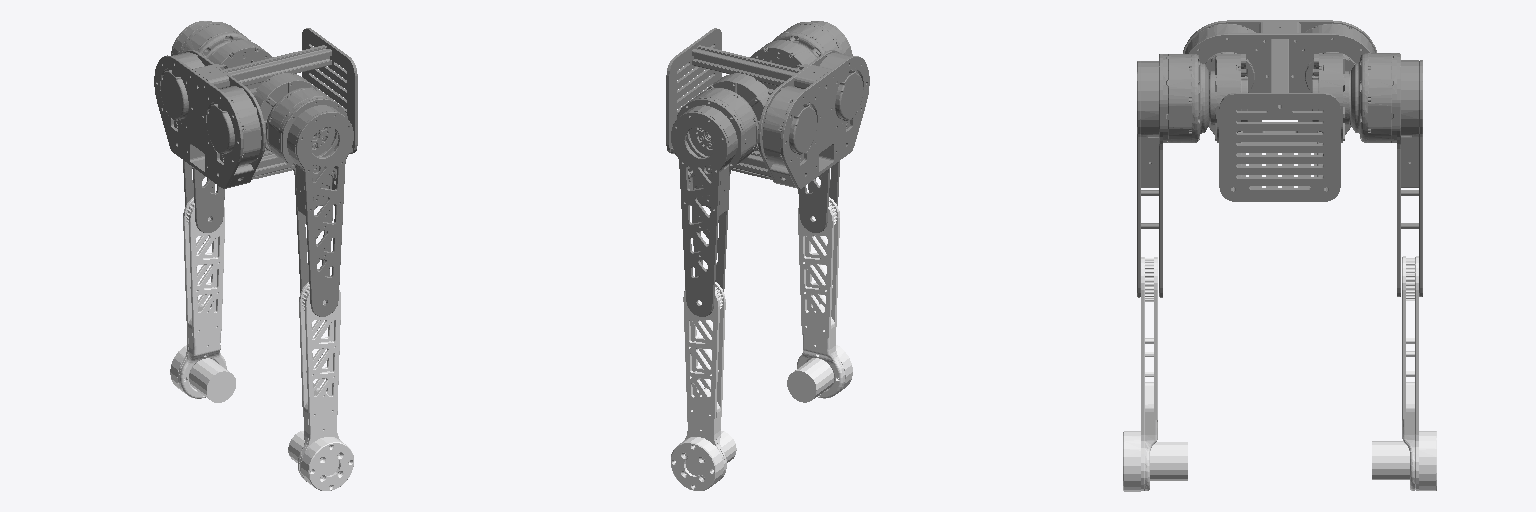
URDF robot description (big bipedal robot v1):
<?xml version="1.0" encoding="utf-8"?>
<!-- This URDF was automatically created by SolidWorks to URDF Exporter! Originally created by [author] ([email redacted]) 
     Commit Version: 1.6.0-4-g7f85cfe  Build Version: 1.6.7995.38578
     For more information, please see http://wiki.ros.org/sw_urdf_exporter -->
<robot
  name="big bipedal robot v1">
  <link name="dummy_link"/>  
  <joint name="dummy_joint" type="floating">
    <parent link="dummy_link"/>
    <child link="base_link"/>
    <origin xyz="0 0 0" rpy="0 0 0"/>
  </joint>
  <link
    name="base_link">
    <inertial>
      <origin
        xyz="0.027551 -0.015841 0.0099587"
        rpy="0 0 0" />
      <mass
        value="4.5" />
      <inertia
        ixx="0.0034237"
        ixy="0.00030912"
        ixz="-1.3025E-06"
        iyy="0.0045382"
        iyz="1.1414E-06"
        izz="0.003454" />
    </inertial>
    <visual>
      <origin
        xyz="0 0 0"
        rpy="0 0 0" />
      <geometry>
        <mesh
          filename="package://big bipedal robot v1/meshes/base_link.STL" />
      </geometry>
      <material
        name="">
        <color
          rgba="0.62745 0.62745 0.62745 1" />
      </material>
    </visual>
    <collision>
      <origin
        xyz="0 0 0"
        rpy="0 0 0" />
      <geometry>
        <mesh
          filename="package://big bipedal robot v1/meshes/base_link.STL" />
      </geometry>
    </collision>
  </link>
  <link
    name="hipR_link">
    <inertial>
      <origin
        xyz="0.050012 -8.4172E-05 -0.00066363"
        rpy="0 0 0" />
      <mass
        value="0.575" />
      <inertia
        ixx="0.00013072"
        ixy="3.5562E-07"
        ixz="-3.3092E-06"
        iyy="0.00015128"
        iyz="-2.3793E-07"
        izz="0.00024737" />
    </inertial>
    <visual>
      <origindummy_link
        xyz="0 0 0"
        rpy="0 0 0" />
      <geometry>
        <mesh
          filename="package://big bipedal robot v1/meshes/hipR_link.STL" />
      </geometry>
      <material
        name="">
        <color
          rgba="0.62745 0.62745 0.62745 1" />
      </material>
    </visual>
    <collision>
      <origin
        xyz="0 0 0"
        rpy="0 0 0" />
      <geometry>
        <mesh
          filename="package://big bipedal robot v1/meshes/hipR_link.STL" />
      </geometry>
    </collision>
  </link>
  <joint
    name="hip1"
    type="revolute">
    <origin
      xyz="0.02095 0.04625 0"
      rpy="1.5708 0 0" />
    <parent
      link="base_link" />
    <child
      link="hipR_link" />
    <axis
      xyz="1 0 0" />
    <limit
      lower="-0.34907"
      upper="0.34907"
      effort="0"
      velocity="0" />
  </joint>
  <link
    name="thighR_link">
    <inertial>
      <origin
        xyz="-6.2397E-05 -0.02137 -0.039555"
        rpy="0 0 0" />
      <mass
        value="1.01" />
      <inertia
        ixx="0.001452"
        ixy="1.5171E-08"
        ixz="3.2362E-07"
        iyy="0.00038047"
        iyz="-0.0002033"
        izz="0.0014985" />
    </inertial>
    <visual>
      <origin
        xyz="0 0 0"
        rpy="0 0 0" />
      <geometry>
        <mesh
          filename="package://big bipedal robot v1/meshes/thighR_link.STL" />
      </geometry>
      <material
        name="">
        <color
          rgba="0.62745 0.62745 0.62745 1" />
      </material>
    </visual>
    <collision>
      <origin
        xyz="0 0 0"
        rpy="0 0 0" />
      <geometry>
        <mesh
          filename="package://big bipedal robot v1/meshes/thighR_link.STL" />
      </geometry>
    </collision>
  </link>
  <joint
    name="thigh2"
    type="revolute">
    <origin
      xyz="0.05325 0 -0.019903"
      rpy="0 0 0" />
    <parent
      link="hipR_link" />
    <child
      link="thighR_link" />
    <axis
      xyz="0 0 1" />
    <limit
      lower="-1.7453"
      upper="0"
      effort="0"
      velocity="0" />
  </joint>
  <link
    name="calfR_link">
    <inertial>
      <origin
        xyz="3.3109E-05 -0.1669 -0.041645"
        rpy="0 0 0" />
      <mass
        value="0.605" />
      <inertia
        ixx="0.0013877"
        ixy="-9.3452E-07"
        ixz="6.3494E-09"
        iyy="0.00010149"
        iyz="5.0924E-06"
        izz="0.0013734" />
    </inertial>
    <visual>
      <origin
        xyz="0 0 0"
        rpy="0 0 0" />
      <geometry>
        <mesh
          filename="package://big bipedal robot v1/meshes/calfR_link.STL" />
      </geometry>
      <material
        name="">
        <color
          rgba="0.96078 0.96078 0.96471 1" />
      </material>
    </visual>
    <collision>
      <origin
        xyz="0 0 0"
        rpy="0 0 0" />
      <geometry>
        <mesh
          filename="package://big bipedal robot v1/meshes/calfR_link.STL" />
      </geometry>
    </collision>
  </link>
  <joint
    name="calf3"
    type="revolute">
    <origin
      xyz="0 -0.215 -0.022247"
      rpy="0 0 0" />
    <parent
      link="thighR_link" />
    <child
      link="calfR_link" />
    <axis
      xyz="0 0 1" />
    <limit
      lower="-2.618"
      upper="0"
      effort="0"
      velocity="0" />
  </joint>
  <link
    name="wheelR_link">
    <inertial>
      <origin
        xyz="6.1926E-11 1.06E-05 -0.024241"
        rpy="0 0 0" />
      <!-- <mass
        value="0.695" /> -->
      <mass
        value="0.0" />
      <inertia
        ixx="0.00097474"
        ixy="1.4305E-09"
        ixz="-1.6779E-09"
        iyy="0.00097477"
        iyz="-1.4591E-08"
        izz="0.001795" />
    </inertial>
    <visual>
      <origin
        xyz="0 0 0"
        rpy="0 0 0" />
      <geometry>
        <mesh
          filename="package://big bipedal robot v1/meshes/wheelR_link.STL" />
      </geometry>
      <material
        name="">
        <color
          rgba="0.15294 0.15294 0.15294 1" />
      </material>
    </visual>
    <collision>
      <origin
        xyz="0 0 0"
        rpy="0 0 0" />
      <geometry>
        <mesh
          filename="package://big bipedal robot v1/meshes/wheelR_link.STL" />
      </geometry>
    </collision>
  </link>
  <joint
    name="wheel4"
    type="continuous">
    <origin
      xyz="0 -0.215 -0.0596"
      rpy="0 0 0.059474" />
    <parent
      link="calfR_link" />
    <child
      link="wheelR_link" />
    <axis
      xyz="0 0 1" />
  </joint>
  <link
    name="hipL_link">
    <inertial>
      <origin
        xyz="0.050012 -8.4178E-05 0.00066363"
        rpy="0 0 0" />
      <mass
        value="0.575" />
      <inertia
        ixx="0.00013072"
        ixy="3.5562E-07"
        ixz="-3.3092E-06"
        iyy="0.00015128"
        iyz="-2.3793E-07"
        izz="0.00024737" />
    </inertial>
    <visual>
      <origin
        xyz="0 0 0"
        rpy="0 0 0" />
      <geometry>
        <mesh
          filename="package://big bipedal robot v1/meshes/hipL_link.STL" />
      </geometry>
      <material
        name="">
        <color
          rgba="0.62745 0.62745 0.62745 1" />
      </material>
    </visual>
    <collision>
      <origin
        xyz="0 0 0"
        rpy="0 0 0" />
      <geometry>
        <mesh
          filename="package://big bipedal robot v1/meshes/hipL_link.STL" />
      </geometry>
    </collision>
  </link>
  <joint
    name="hip01"
    type="revolute">
    <origin
      xyz="0.02195 -0.06625 0"
      rpy="1.5708 0 0" />
    <parent
      link="base_link" />
    <child
      link="hipL_link" />
    <axis
      xyz="1 0 0" />
    <limit
      lower="-0.34907"
      upper="0.34907"
      effort="0"
      velocity="0" />
  </joint>
  <link
    name="thighL_link">
    <inertial>
      <origin
        xyz="-6.2369E-05 -0.02137 0.039555"
        rpy="0 0 0" />
      <mass
        value="1.01" />
      <inertia
        ixx="0.001452"
        ixy="1.5255E-08"
        ixz="-3.236E-07"
        iyy="0.00038047"
        iyz="0.00020329"
        izz="0.0014985" />
    </inertial>
    <visual>
      <origin
        xyz="0 0 0"
        rpy="0 0 0" />
      <geometry>
        <mesh
          filename="package://big bipedal robot v1/meshes/thighL_link.STL" />
      </geometry>
      <material
        name="">
        <color
          rgba="0.62745 0.62745 0.62745 1" />
      </material>
    </visual>
    <collision>
      <origin
        xyz="0 0 0"
        rpy="0 0 0" />
      <geometry>
        <mesh
          filename="package://big bipedal robot v1/meshes/thighL_link.STL" />
      </geometry>
    </collision>
  </link>
  <joint
    name="thigh02"
    type="revolute">
    <origin
      xyz="0.05325 0 0.019903"
      rpy="0 0 0" />
    <parent
      link="hipL_link" />
    <child
      link="thighL_link" />
    <axis
      xyz="0 0 1" />
    <limit
      lower="-1.7453"
      upper="0"
      effort="0"
      velocity="0" />
  </joint>
  <link
    name="calfL_link">
    <inertial>
      <origin
        xyz="3.3129E-05 -0.1669 0.041645"
        rpy="0 0 0" />
      <mass
        value="0.605" />
      <inertia
        ixx="0.0013877"
        ixy="-9.3381E-07"
        ixz="-6.3843E-09"
        iyy="0.00010149"
        iyz="-5.0922E-06"
        izz="0.0013734" />
    </inertial>
    <visual>
      <origin
        xyz="0 0 0"
        rpy="0 0 0" />
      <geometry>
        <mesh
          filename="package://big bipedal robot v1/meshes/calfL_link.STL" />
      </geometry>
      <material
        name="">
        <color
          rgba="0.96078 0.96078 0.96471 1" />
      </material>
    </visual>
    <collision>
      <origin
        xyz="0 0 0"
        rpy="0 0 0" />
      <geometry>
        <mesh
          filename="package://big bipedal robot v1/meshes/calfL_link.STL" />
      </geometry>
    </collision>
  </link>
  <joint
    name="calf03"
    type="revolute">
    <origin
      xyz="0 -0.215 0.022247"
      rpy="0 0 0" />
    <parent
      link="thighL_link" />
    <child
      link="calfL_link" />
    <axis
      xyz="0 0 1" />
    <limit
      lower="0"
      upper="2.618"
      effort="0"
      velocity="0" />
  </joint>
  <link
    name="wheelL_link">
    <inertial>
      <origin
        xyz="-5.9355E-08 1.0557E-05 0.024241"
        rpy="0 0 0" />
      <!-- <mass
        value="0.695" /> -->
      <mass
        value="0.0" />
      <inertia
        ixx="0.00097474"
        ixy="1.3894E-09"
        ixz="1.4595E-09"
        iyy="0.00097477"
        iyz="1.4685E-08"
        izz="0.001795" />
    </inertial>
    <visual>
      <origin
        xyz="0 0 0"
        rpy="0 0 0" />
      <geometry>
        <mesh
          filename="package://big bipedal robot v1/meshes/wheelL_link.STL" />
      </geometry>
      <material
        name="">
        <color
          rgba="0.15294 0.15294 0.15294 1" />
      </material>
    </visual>
    <collision>
      <origin
        xyz="0 0 0"
        rpy="0 0 0" />
      <geometry>
        <mesh
          filename="package://big bipedal robot v1/meshes/wheelL_link.STL" />
      </geometry>
    </collision>
  </link>
  <joint
    name="wheel04"
    type="continuous">
    <origin
      xyz="0 -0.215 0.0596"
      rpy="0 0 -2.7517" />
    <parent
      link="calfL_link" />
    <child
      link="wheelL_link" />
    <axis
      xyz="0 0 1" />
  </joint>
</robot>

--- Facts derived from the render (not from the file) ---
Views: 3 orthographic renders of the robot side by side, from view 1: azimuth 30°, elevation 25°; view 2: azimuth 150°, elevation 25°; view 3: azimuth 270°, elevation 25°.
Robot: big bipedal robot v1 — 10 links, 9 joints (6 revolute, 2 continuous, 1 floating); root link dummy_link; default pose: every joint at zero.
Links seen in each view (by area): view 1: base_link, thighL_link, calfL_link, calfR_link, thighR_link, hipL_link, hipR_link; view 2: base_link, thighR_link, calfR_link, calfL_link, thighL_link, hipR_link, hipL_link; view 3: base_link, thighR_link, thighL_link, calfL_link, calfR_link, hipR_link, hipL_link.
Link boxes in pixels (box(x1,y1,x2,y2)): base_link: box(154, 28, 357, 188); thighL_link: box(266, 88, 353, 316); calfL_link: box(288, 282, 353, 490); calfR_link: box(170, 197, 235, 402); thighR_link: box(171, 21, 250, 232); hipL_link: box(250, 73, 317, 151); hipR_link: box(208, 40, 272, 89); base_link: box(666, 28, 869, 188); thighR_link: box(671, 88, 758, 316); calfR_link: box(671, 282, 736, 490); calfL_link: box(787, 197, 852, 402); thighL_link: box(772, 21, 852, 232); hipR_link: box(707, 73, 773, 151); hipL_link: box(750, 40, 814, 89); base_link: box(1183, 20, 1376, 201); thighR_link: box(1351, 53, 1422, 296); thighL_link: box(1137, 54, 1208, 297); calfL_link: box(1123, 257, 1187, 491); calfR_link: box(1372, 256, 1436, 490); hipR_link: box(1312, 53, 1350, 142); hipL_link: box(1209, 54, 1247, 142).
Bounding box of the posed robot: 0.192 × 0.337 × 0.5125 m (x, y, z).
7 mesh visuals loaded from 9 distinct referenced files (7 binary STL); not drawn: 2 (reference not matched to a file when rendering).
